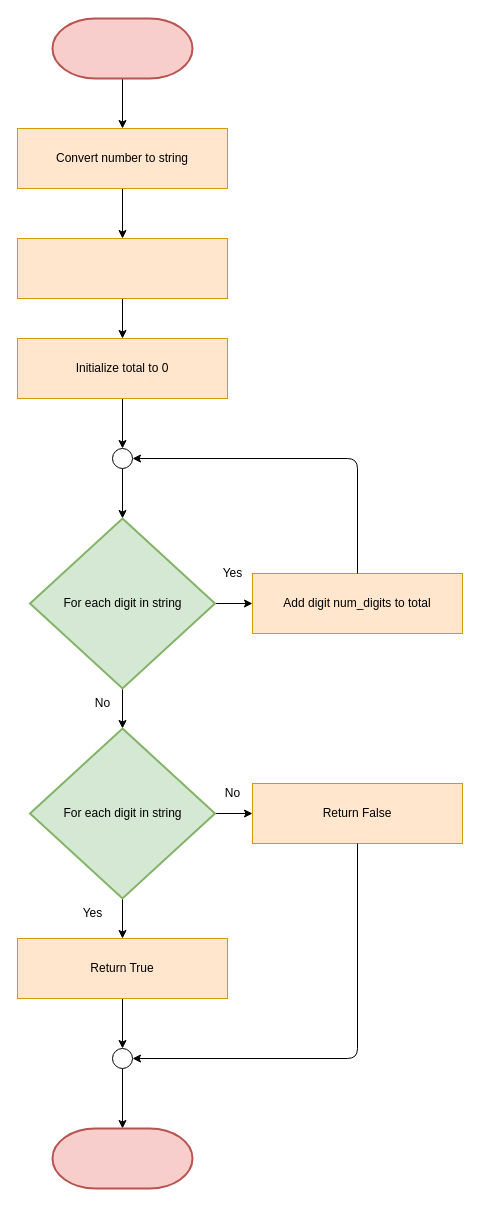
Some shapes in this 480 by 1206 pixel diagram are drawn without their labels. Each missing label, with the centre of its shape:
Get number of digits: point (122, 268)
is.armstrong(number): point (122, 48)
Stop: point (122, 1158)
